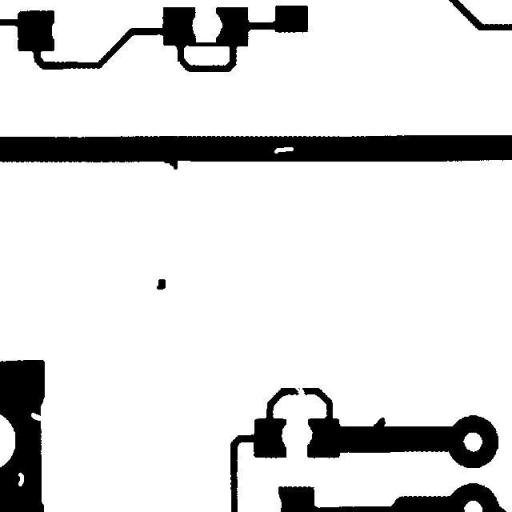copper: (149, 271, 173, 297)
mousebite: (23, 405, 49, 428)
open: (286, 378, 312, 404)
pin-hole: (266, 139, 301, 161), (10, 464, 32, 494)
short: (181, 34, 228, 54)
spur: (156, 150, 185, 176), (366, 410, 392, 438)
